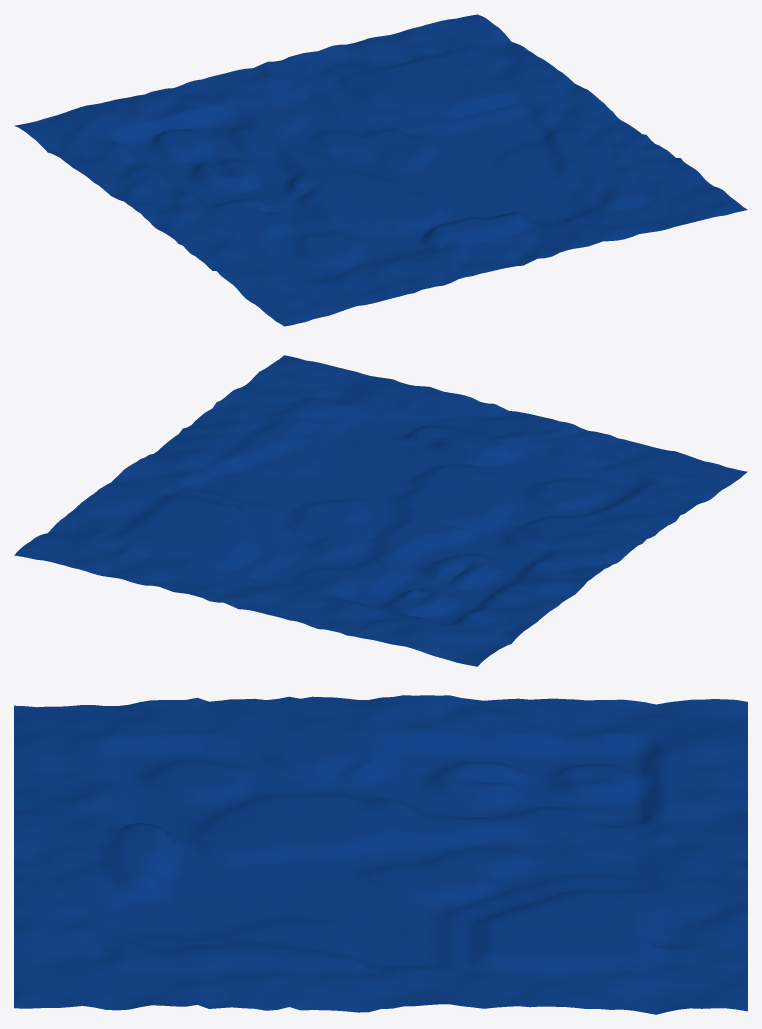
File: navmesh_terrain.FBX
3 views of the same model, one above another, from view 1: azimuth 30°, elevation 25°; view 2: azimuth 150°, elevation 25°; view 3: azimuth 270°, elevation 25° (orthographic). The views are drawn at different scales.
Parts seen in each view (by area): view 1: Plane001; view 2: Plane001; view 3: Plane001.
Boxes of the visible parts, x1,y1,x2,y2 form: Plane001: (14,14,747,326); Plane001: (14,355,747,666); Plane001: (14,695,747,1014).
Size of the model in its own units: 103 by 3.06 by 104.
